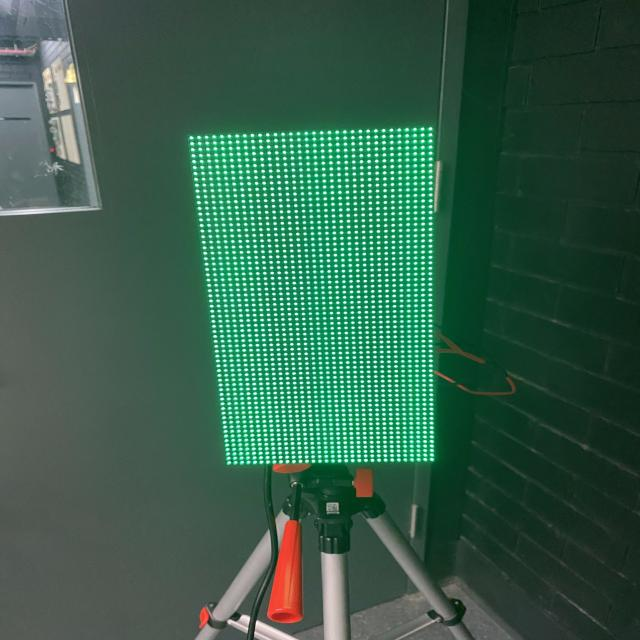matrix: (172, 128, 462, 474)
